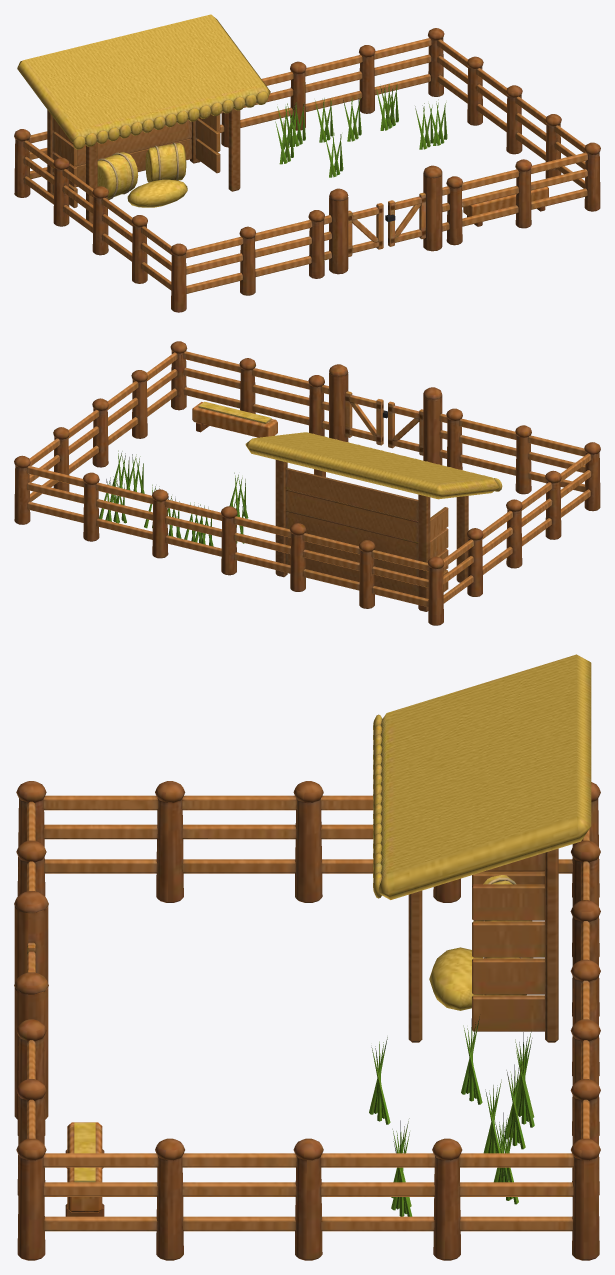
File: ostrich_ranch.glb
3 views of the same model, one above another, from view 1: azimuth 30°, elevation 25°; view 2: azimuth 150°, elevation 25°; view 3: azimuth 270°, elevation 25° (orthographic). The views are drawn at different scales.
Parts seen in each view (by area): view 1: ostrich_ranch, gate1, gate0; view 2: ostrich_ranch, gate1, gate0; view 3: ostrich_ranch.
Part boxes in pixels (box(x1,y1,x2,y2)): ostrich_ranch: box(14, 14, 600, 312); gate1: box(385, 192, 425, 246); gate0: box(348, 203, 383, 256); ostrich_ranch: box(14, 341, 600, 625); gate1: box(345, 391, 387, 445); gate0: box(388, 401, 423, 455); ostrich_ranch: box(14, 654, 600, 1260).
Bounding box in the file's own units: 3 × 0.9714 × 2.01.
Materials: 1 (1 with a texture image).
